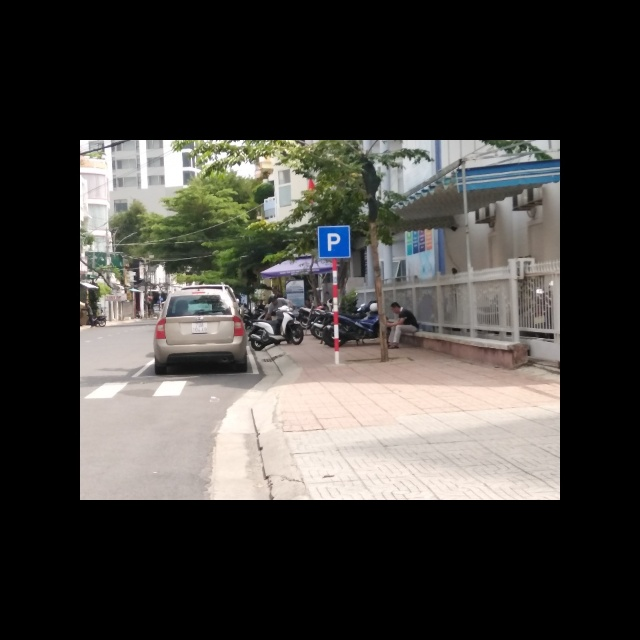Nơi đỗ xe: (317, 225, 351, 258)
